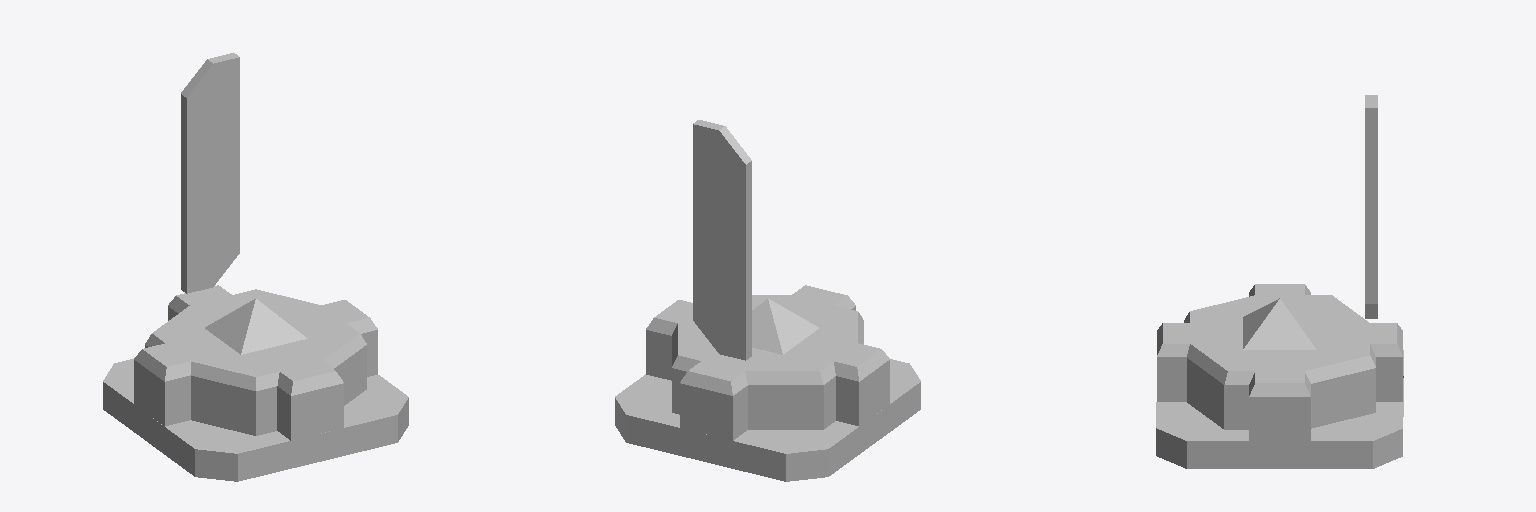
Rendered from matrix.obj.
3 views of the same model, side by side, from view 1: azimuth 30°, elevation 25°; view 2: azimuth 150°, elevation 25°; view 3: azimuth 270°, elevation 25° (orthographic).
Visible parts, largest first — view 1: Main, Shield, Core; view 2: Main, Shield, Core; view 3: Main, Core, Shield.
Part boxes in pixels (x1,y1,x2,y2): Main: (103, 285, 408, 481); Shield: (181, 53, 239, 293); Core: (205, 299, 307, 354); Main: (615, 285, 920, 481); Shield: (693, 120, 751, 360); Core: (752, 299, 818, 354); Main: (1156, 284, 1403, 468); Core: (1243, 298, 1316, 349); Shield: (1365, 95, 1377, 318).
Size of the model in its own units: 1.97 by 2.84 by 1.97.